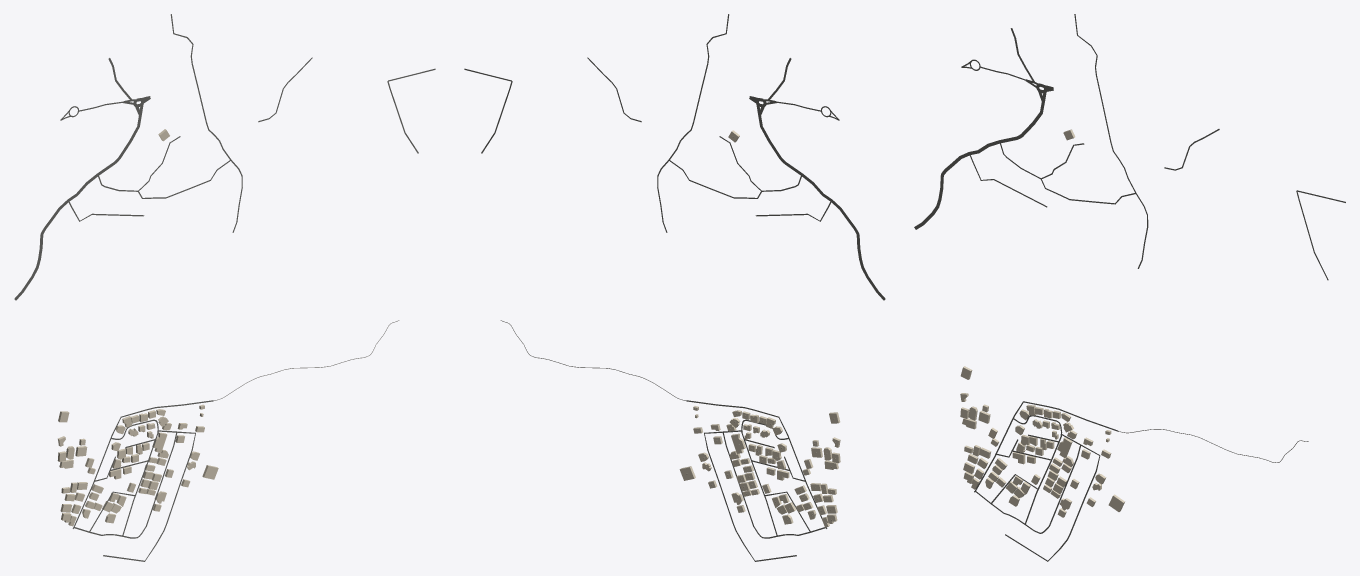
The model's file is historic-palestine-10_34_3519_3281.glb.
The picture shows the model from 3 angles, left to right: view 1: azimuth 30°, elevation 25°; view 2: azimuth 150°, elevation 25°; view 3: azimuth 330°, elevation 25°; orthographic projection. The views are drawn at different scales.
Visible parts, largest first — view 1: Road .013; view 2: Road .013; view 3: Road .013.
Part boxes in pixels (x1,y1,x2,y2): Road .013: (14,115,141,300); Road .013: (758,115,885,300); Road .013: (914,101,1044,229).
Size of the model in its own units: 1123 by 1378 by 8.7.
